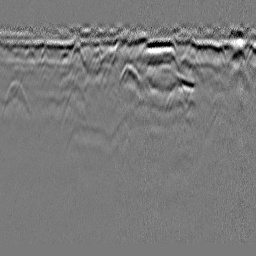cavity: (118, 60, 140, 87)
